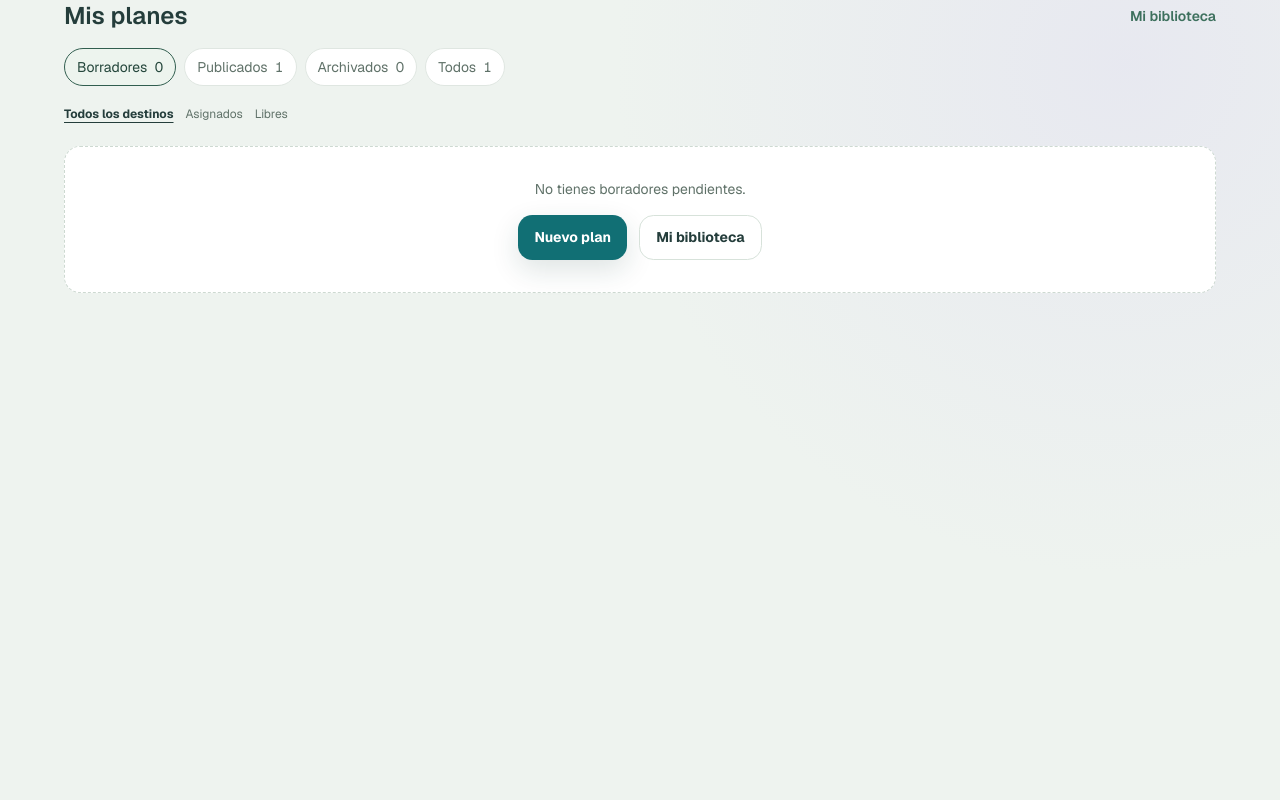
Test: plan organization › offers sharing and removes a published plan only after confirmation
Click the button "Publicados 1" at (240, 67), box [184,48,296,86]
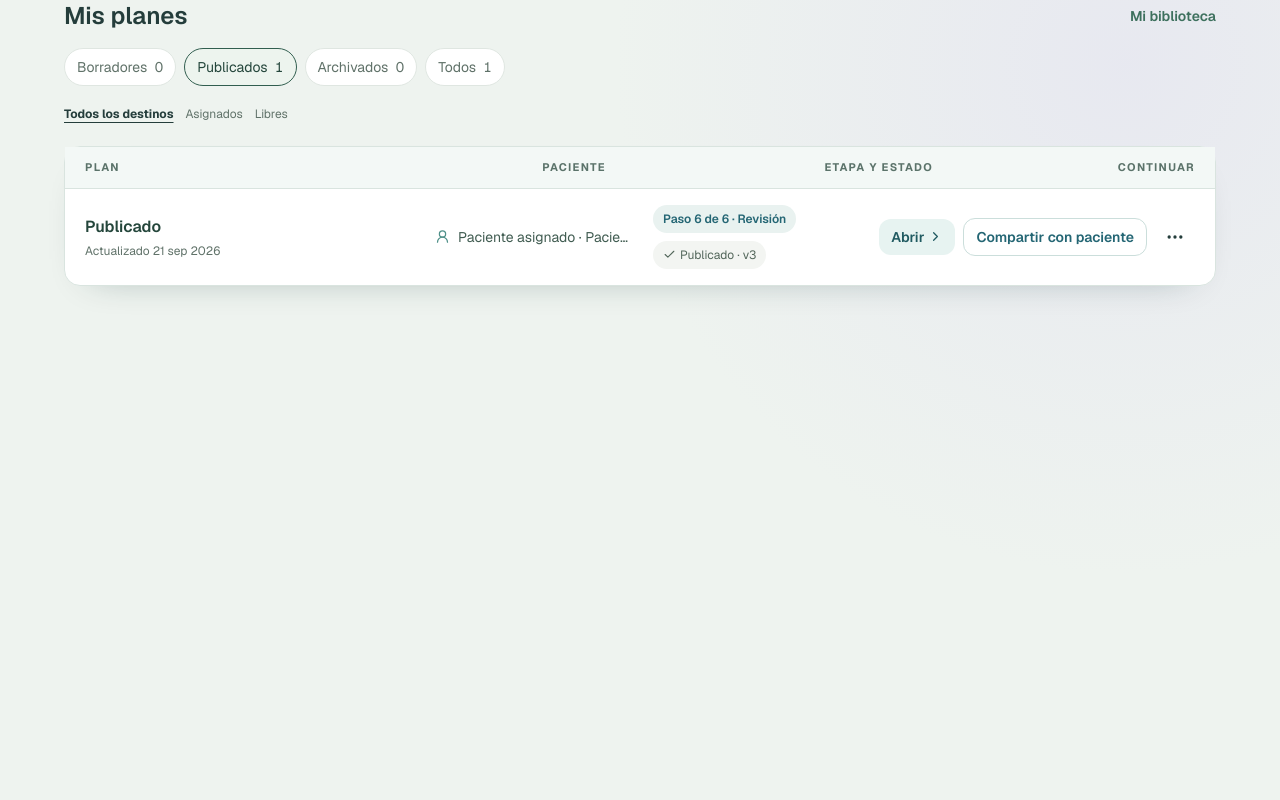
Click the heading named "Acciones de Publicado" at (1175, 236), box [1165,226,1185,246]
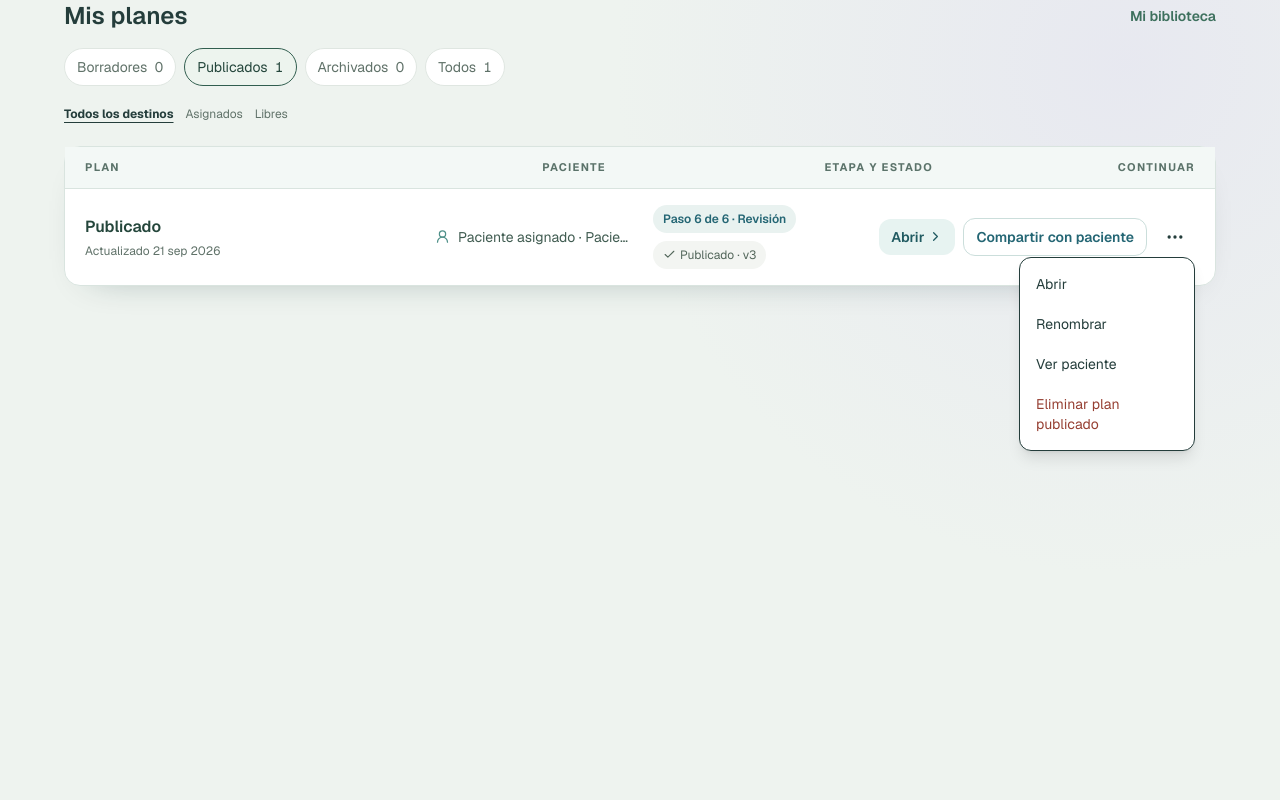
Click the button "Eliminar plan publicado" at (1107, 414), box [1028,386,1186,442]
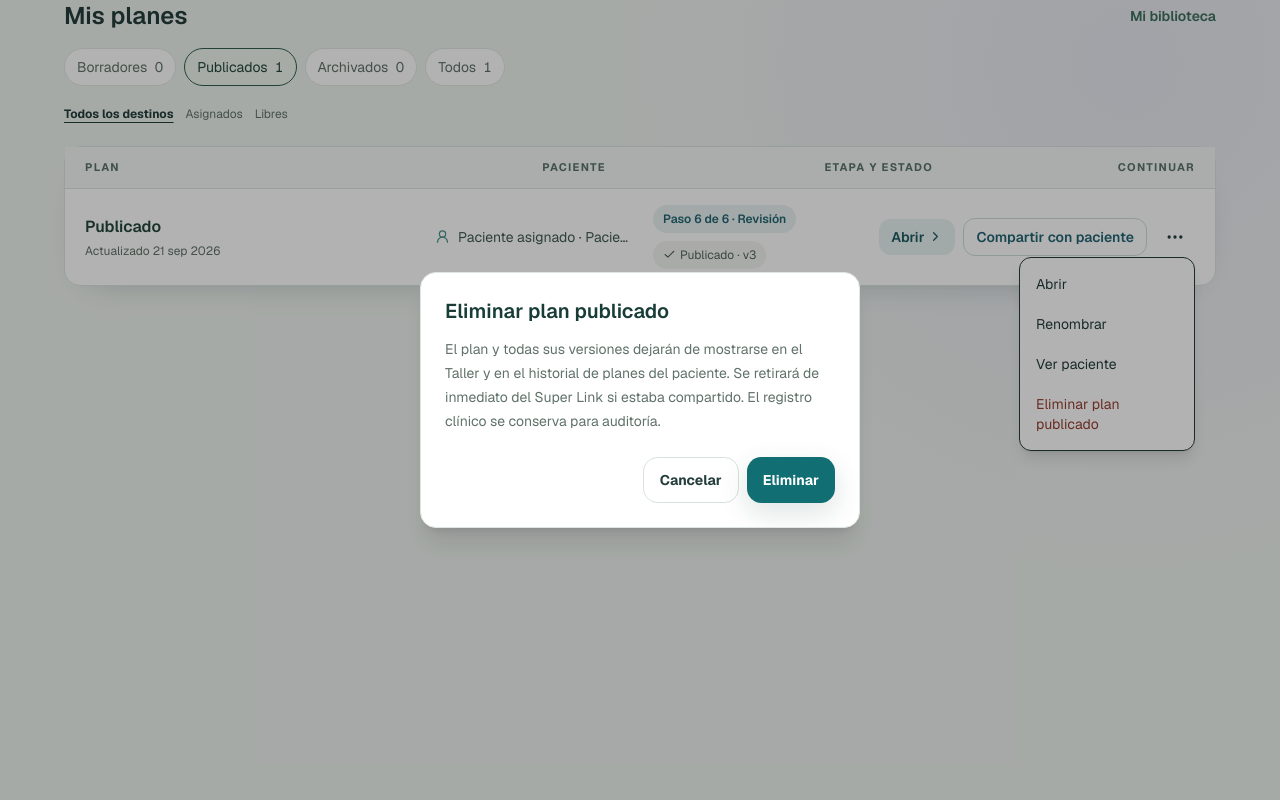
Expected: the dialog shows "todas sus versiones dejarán de mostrarse en el Taller y en el historial de planes del paciente", [445,340,819,430]
Expected: the dialog shows "Se retirará de inmediato del Super Link si estaba compartido", [445,340,819,430]
Click the button "Eliminar" at (791, 480), box [747,457,835,503]
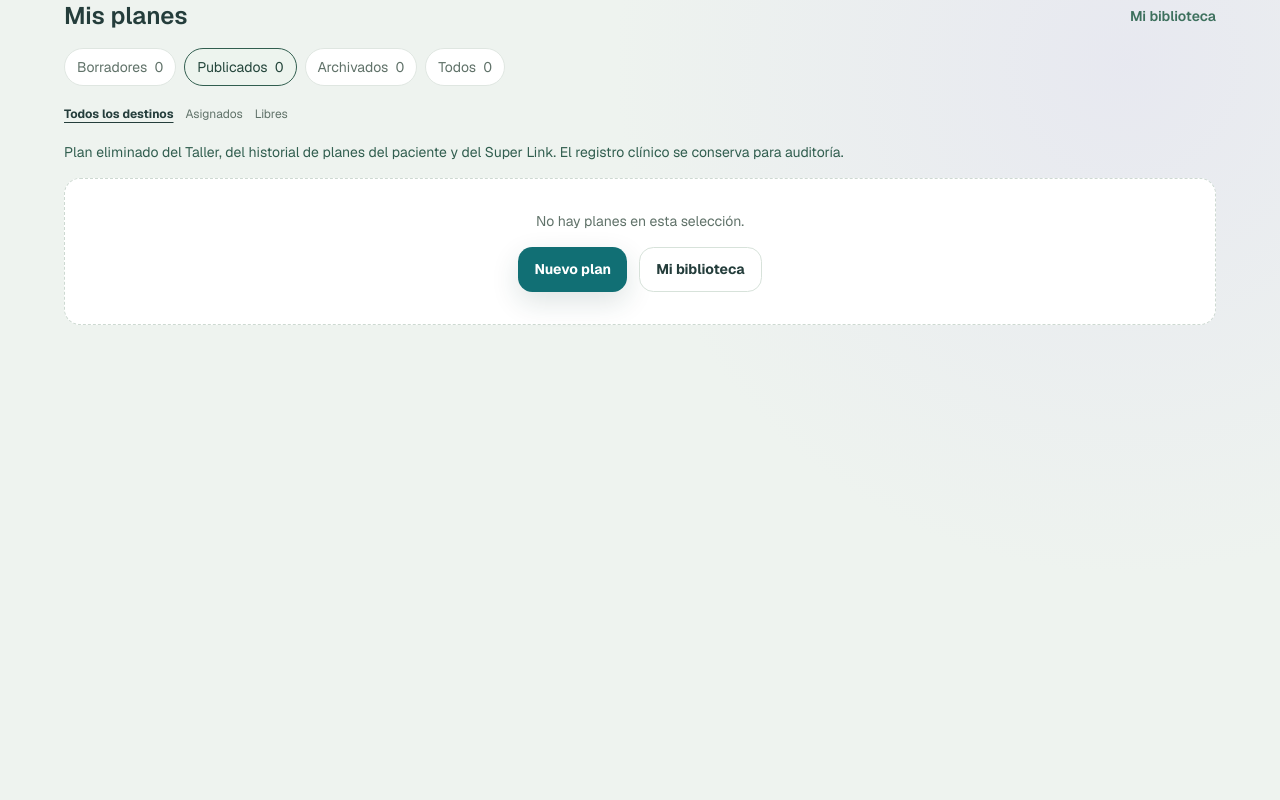
Expected: the message reads "Plan eliminado del Taller, del historial de planes del paciente y del Super Link", [64,143,844,161]
